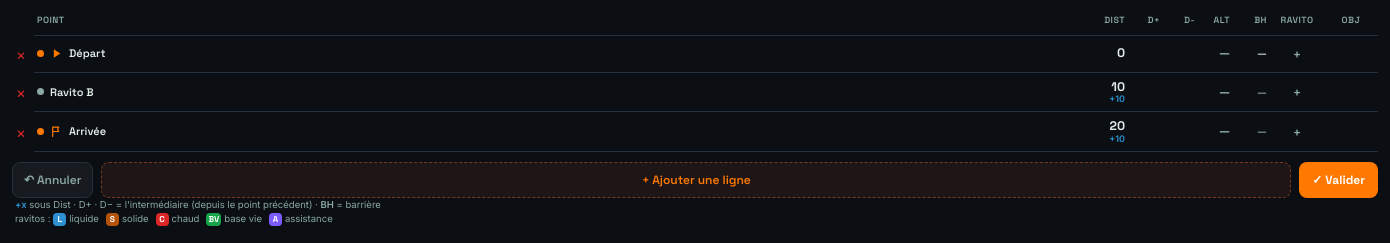
Scenario: Annuler restaure l’état d’entrée du mode édition (suppression + cellule) et sort du mode
The width and height of the screenshot is (1390, 243).
Expected: the 2nd field showing "Ravito B" is shown, [50,86,1082,98]
# Suppression d'une ligne + édition d'un nom pendant le mode édition.
Click the button named "Supprimer la ligne" at point(21, 92), box [12,83,30,101]
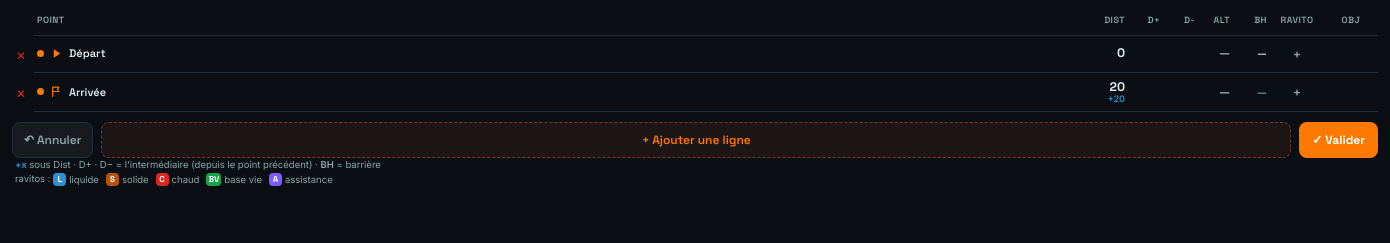
Expected: the field showing "Ravito B" is not shown
Replace the text in the 1st field showing "Départ" with "Départ modifié" at point(576, 54), box [69,47,1082,60]
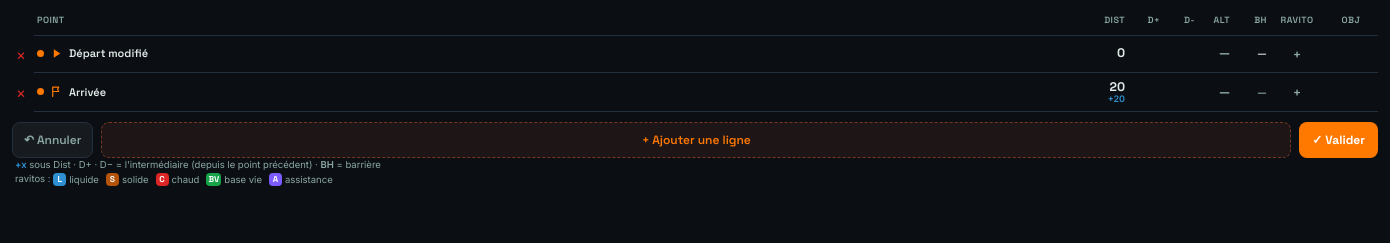
Click the button "↶ Annuler" at point(53, 140), box [12,122,93,158]
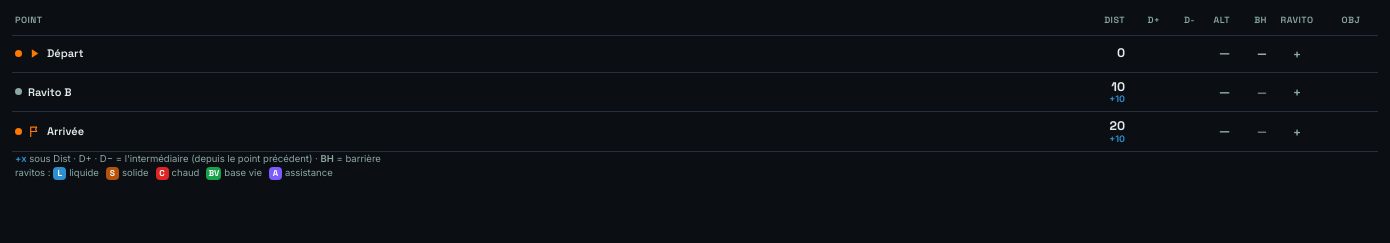
Expected: the 2nd field showing "Ravito B" is shown, [28,86,1082,98]
Expected: the button "Valider" is gone
Expected: the button "Annuler" is gone
